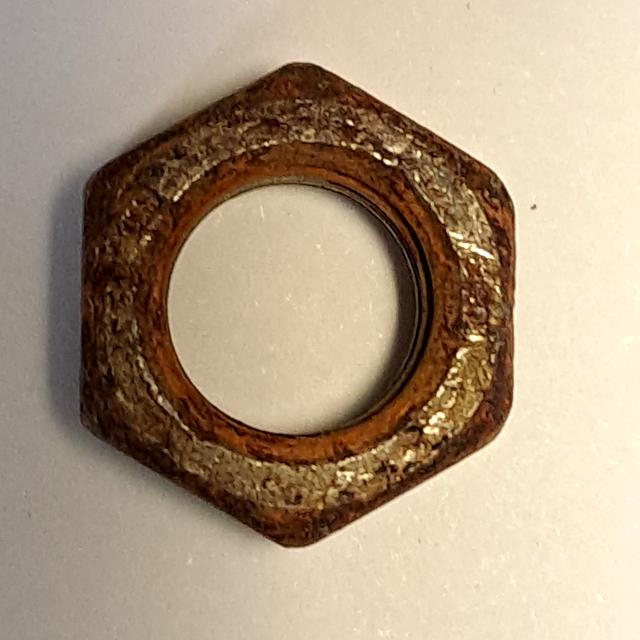Rust: (59, 38, 530, 571)
